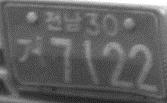0: (102, 13, 119, 37)
1: (81, 37, 102, 89)
2: (102, 40, 136, 89), (128, 43, 159, 93)
3: (84, 11, 101, 38)
7: (48, 34, 74, 86)
거: (15, 35, 47, 73)
전남_O: (44, 9, 82, 33)
